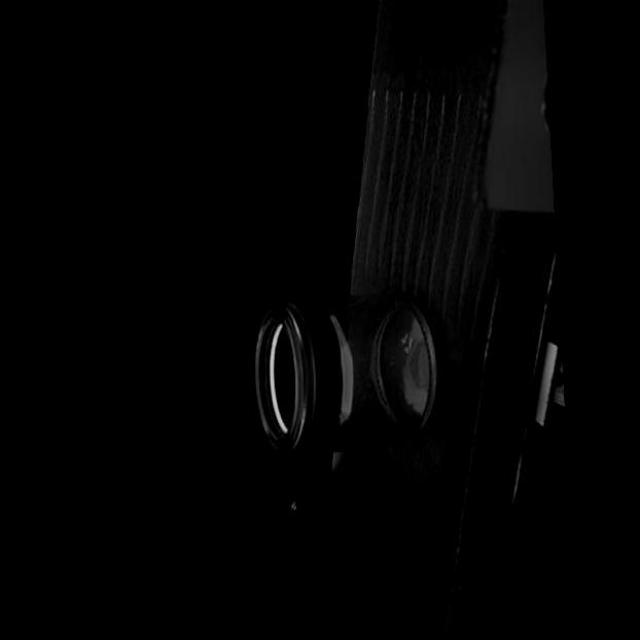defect: (336, 398, 342, 418)
glass: (250, 284, 444, 456)
